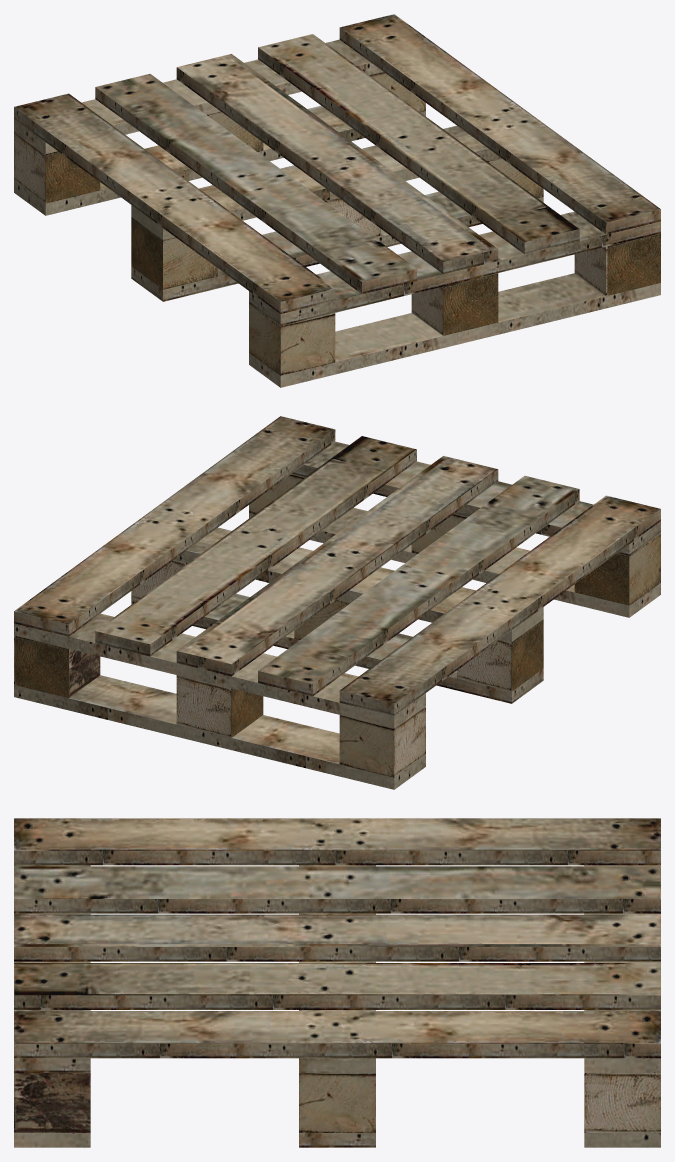
Rendered from pallet.obj.
The picture shows the model from 3 angles, top to bottom: view 1: azimuth 30°, elevation 25°; view 2: azimuth 150°, elevation 25°; view 3: azimuth 270°, elevation 25°; orthographic projection. The views are drawn at different scales.
Parts seen in each view (by area): view 1: Pallet_DefaultPalle; view 2: Pallet_DefaultPalle; view 3: Pallet_DefaultPalle.
Part boxes in pixels (bbox=[...]): Pallet_DefaultPalle: bbox=[14, 14, 660, 387]; Pallet_DefaultPalle: bbox=[14, 416, 660, 789]; Pallet_DefaultPalle: bbox=[14, 818, 660, 1147].
Bounding box in the file's own units: 0.8 × 0.1725 × 0.9712.
